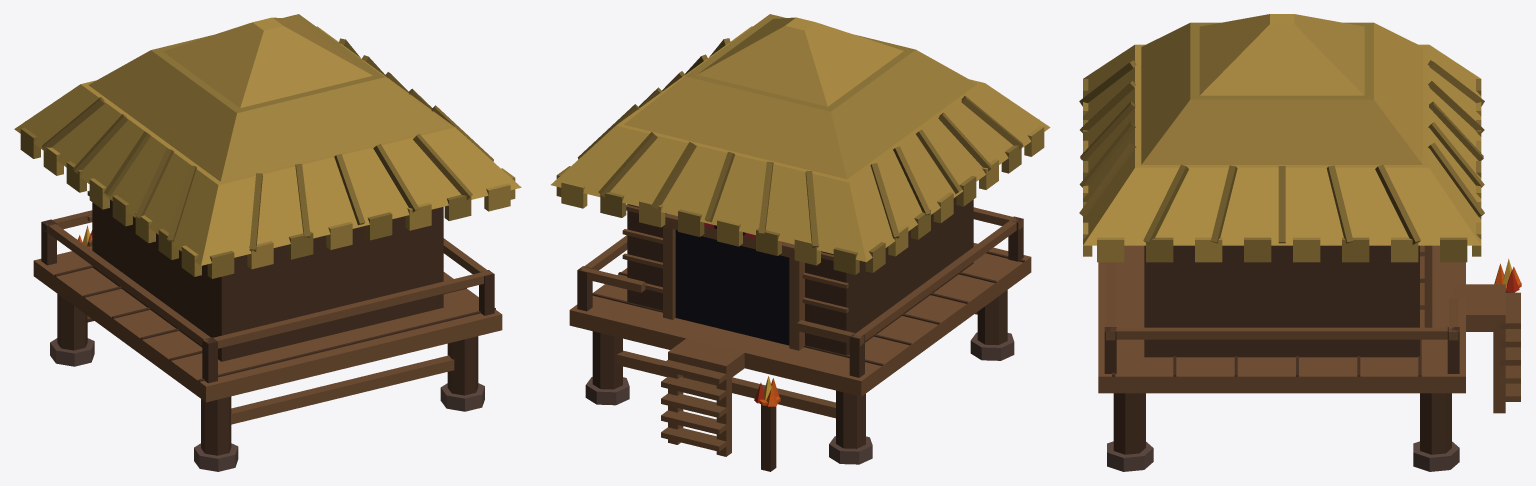
The model's file is Decor_Volcano_TikiHut.fbx.
3 renders of one model, left to right at view 1: azimuth 30°, elevation 25°; view 2: azimuth 150°, elevation 25°; view 3: azimuth 270°, elevation 25°, orthographic. The views are drawn at different scales.
Visible parts, largest first — view 1: TikiHut_Body; view 2: TikiHut_Body; view 3: TikiHut_Body.
Part boxes in pixels (x1,y1,x2,y2): TikiHut_Body: [14, 14, 521, 471]; TikiHut_Body: [551, 14, 1050, 471]; TikiHut_Body: [1079, 14, 1521, 471].
Bounding box in the file's own units: 13 × 13.5 × 14.3.
